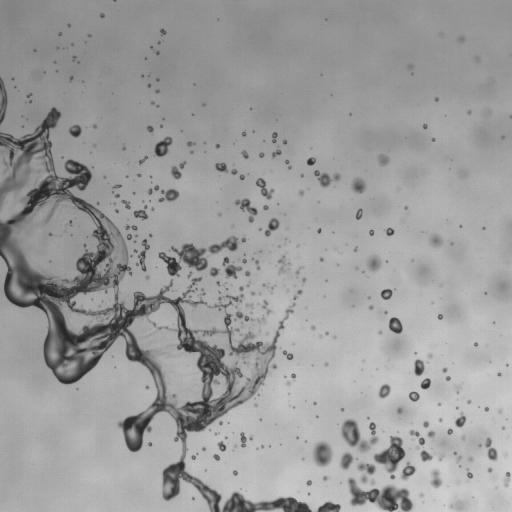droplet: (341, 418, 378, 452), (312, 441, 332, 466), (314, 170, 340, 187), (222, 257, 241, 278), (154, 136, 172, 156), (339, 452, 355, 470), (400, 461, 415, 480), (264, 218, 279, 236), (171, 161, 185, 179), (278, 254, 290, 274), (367, 255, 381, 271), (351, 178, 365, 193), (389, 317, 402, 333), (430, 469, 441, 487), (133, 205, 147, 219), (454, 412, 466, 427), (429, 234, 442, 247), (378, 384, 390, 398), (414, 359, 424, 375), (69, 124, 81, 137), (420, 449, 433, 461), (378, 154, 389, 165), (215, 162, 227, 172), (380, 289, 392, 299), (420, 378, 430, 389), (409, 391, 419, 401), (209, 267, 219, 276), (217, 441, 226, 451), (450, 501, 461, 509), (272, 148, 281, 157), (306, 157, 315, 165), (122, 200, 130, 209), (356, 208, 362, 219), (385, 228, 394, 235), (427, 430, 434, 438), (466, 469, 472, 478), (272, 132, 277, 142), (242, 150, 248, 158), (147, 125, 153, 132), (459, 171, 466, 177), (213, 454, 220, 460), (245, 303, 253, 308), (187, 141, 194, 146), (160, 29, 165, 35), (245, 270, 250, 276), (423, 421, 428, 427), (456, 456, 461, 462), (113, 184, 120, 188), (456, 385, 460, 392), (459, 36, 464, 41), (231, 169, 236, 174), (263, 205, 268, 210), (127, 234, 132, 239), (187, 272, 192, 277), (442, 367, 447, 372), (397, 408, 402, 413), (447, 429, 452, 434), (439, 455, 444, 460), (468, 456, 473, 461), (487, 467, 492, 472), (240, 174, 244, 180), (291, 373, 295, 379), (242, 131, 246, 136), (299, 190, 303, 195), (114, 193, 119, 197), (67, 221, 72, 225), (369, 230, 373, 235), (241, 258, 246, 262), (438, 314, 442, 319), (311, 325, 315, 330), (428, 353, 432, 358), (233, 470, 237, 475), (323, 476, 328, 480), (307, 480, 311, 485), (100, 13, 104, 17), (27, 93, 31, 97), (423, 124, 427, 128), (259, 153, 263, 157), (317, 229, 321, 233), (48, 232, 52, 236), (369, 305, 373, 309), (497, 372, 501, 376), (446, 376, 450, 380), (286, 381, 290, 385), (145, 385, 149, 389), (484, 407, 488, 411), (438, 418, 442, 422), (191, 455, 195, 459), (302, 277, 305, 282), (216, 282, 221, 285), (155, 89, 159, 92), (435, 97, 438, 101), (93, 124, 96, 128), (215, 144, 219, 147), (146, 275, 149, 279), (378, 331, 382, 334), (474, 342, 477, 346), (324, 363, 328, 366), (249, 436, 252, 440), (462, 436, 465, 440), (72, 56, 75, 59), (409, 65, 412, 68), (151, 101, 154, 104), (432, 138, 435, 141), (404, 206, 407, 209), (115, 209, 118, 212), (354, 247, 357, 250), (251, 292, 254, 295), (325, 331, 328, 334), (467, 400, 470, 403), (498, 409, 501, 412), (219, 421, 222, 424), (202, 447, 205, 450), (70, 76, 72, 80), (137, 174, 141, 176), (156, 52, 159, 54), (468, 111, 471, 113), (283, 141, 286, 143), (122, 147, 125, 149), (300, 174, 303, 176), (151, 207, 153, 210), (83, 244, 86, 246), (134, 249, 136, 252), (320, 258, 323, 260), (384, 311, 387, 313), (313, 402, 316, 404), (438, 403, 441, 405), (215, 432, 217, 435), (148, 443, 151, 445), (148, 84, 150, 86), (38, 170, 40, 172), (97, 202, 99, 204), (149, 234, 151, 236), (247, 283, 249, 285), (320, 335, 322, 337), (502, 427, 504, 429), (454, 452, 456, 454), (421, 494, 423, 496)
ligament: (0, 113, 339, 511), (158, 236, 246, 277), (357, 437, 405, 484), (348, 477, 414, 511), (235, 198, 257, 222), (234, 309, 266, 325), (137, 239, 149, 271), (256, 178, 274, 199), (0, 77, 7, 124), (409, 430, 425, 448), (485, 437, 497, 460), (158, 189, 179, 202), (259, 300, 272, 314), (503, 472, 511, 487), (240, 432, 247, 447), (148, 185, 159, 194), (293, 289, 302, 300), (282, 350, 293, 359), (263, 284, 274, 291), (253, 259, 260, 269), (295, 266, 302, 276), (139, 156, 147, 164), (125, 225, 137, 230), (285, 160, 291, 168), (510, 115, 511, 118)
